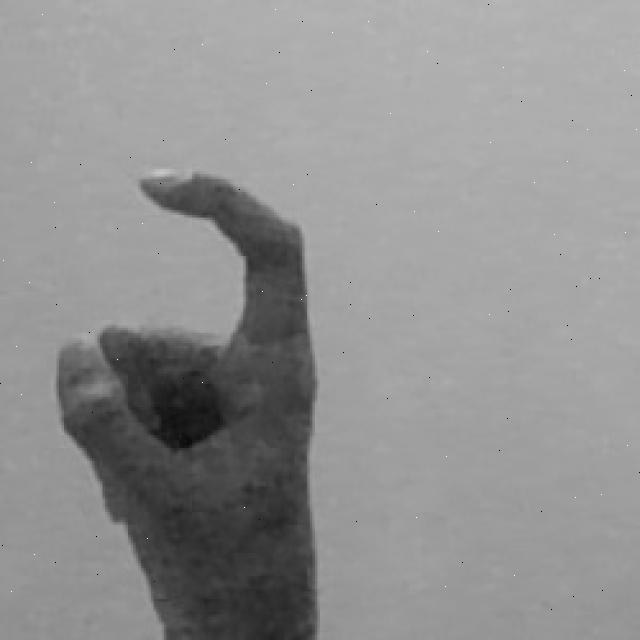X: (49, 161, 330, 640)
